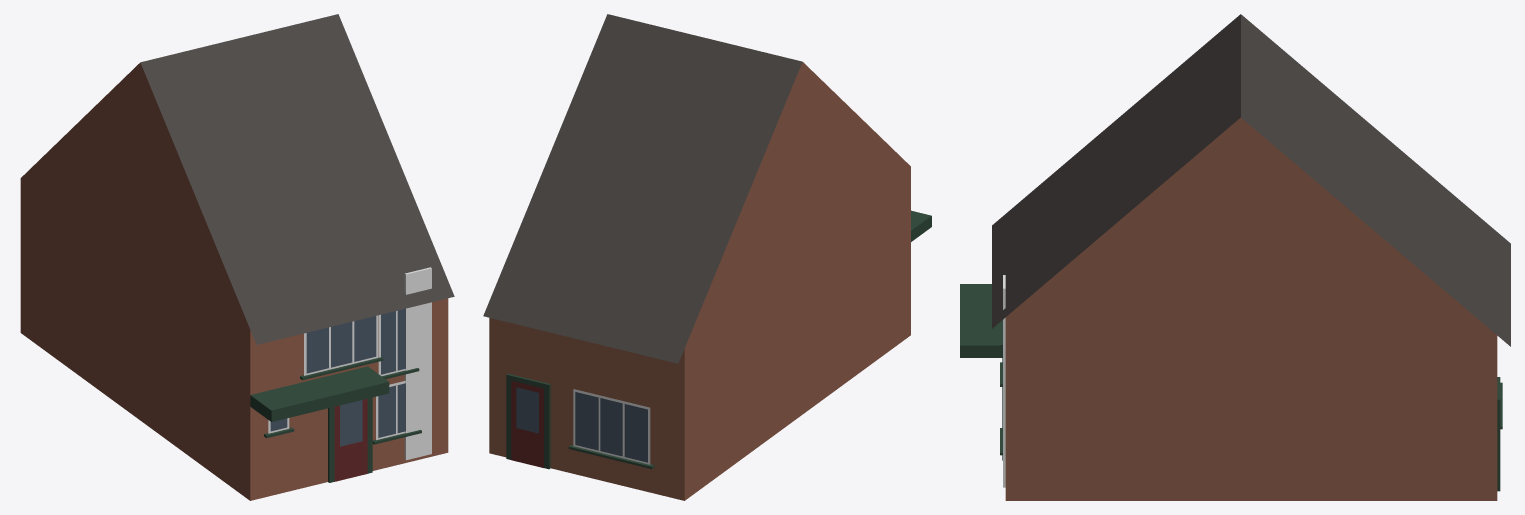
File: zo-g4-canopy-pair__green-canopy-low__2__gable__long__solid.glb
3 renders of one model, left to right at view 1: azimuth 30°, elevation 25°; view 2: azimuth 150°, elevation 25°; view 3: azimuth 270°, elevation 25°, orthographic. The views are drawn at different scales.
Visible parts, largest first — view 1: zo-g4-canopy-pair__green-canopy-low__2__gable__long__solid; view 2: zo-g4-canopy-pair__green-canopy-low__2__gable__long__solid; view 3: zo-g4-canopy-pair__green-canopy-low__2__gable__long__solid.
Boxes of the visible parts, bbox=[...] form: zo-g4-canopy-pair__green-canopy-low__2__gable__long__solid: bbox=[20, 14, 454, 500]; zo-g4-canopy-pair__green-canopy-low__2__gable__long__solid: bbox=[483, 14, 931, 500]; zo-g4-canopy-pair__green-canopy-low__2__gable__long__solid: bbox=[960, 14, 1510, 500].
Size of the model in its own units: 5.38 by 9.3 by 12.11.
